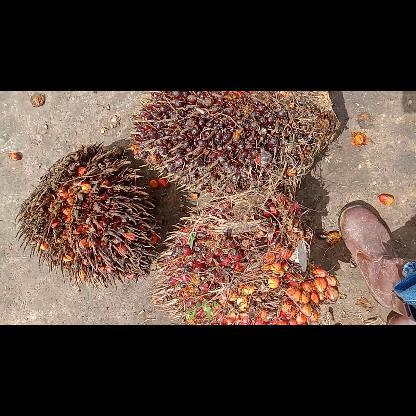Kurang masak: (131, 90, 341, 200)
TBS masak: (158, 192, 338, 324)
Terlalu masak: (20, 144, 162, 282)
